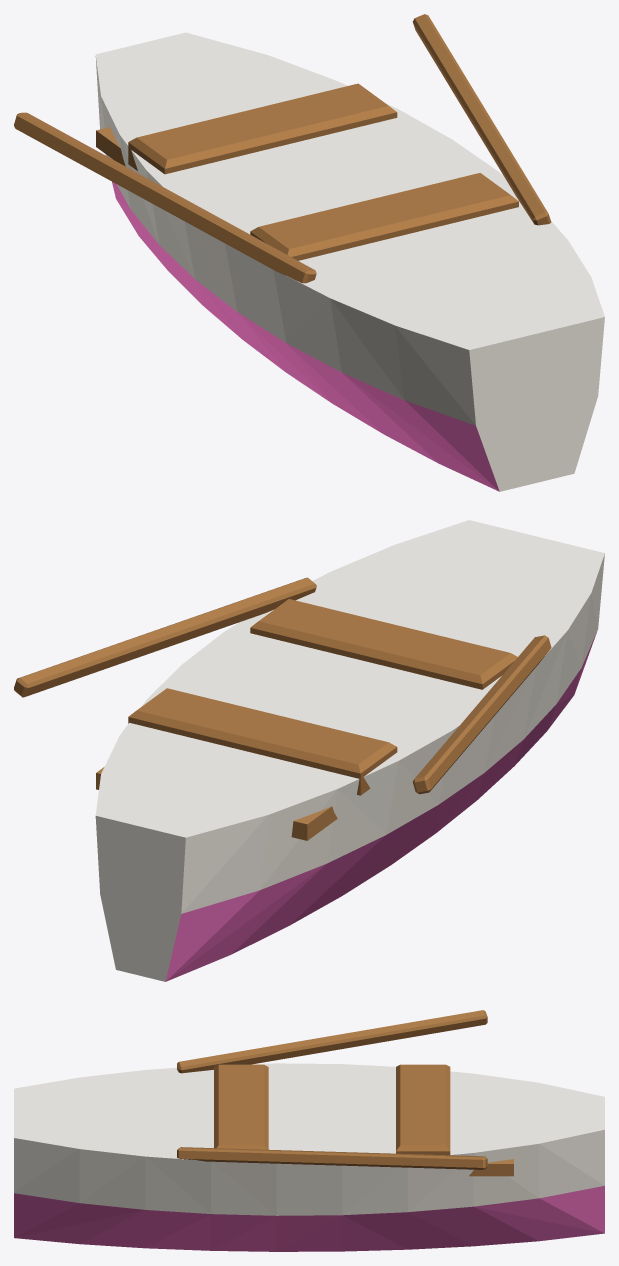
Rendered from Boat_6.glb.
3 renders of one model, top to bottom at view 1: azimuth 30°, elevation 25°; view 2: azimuth 150°, elevation 25°; view 3: azimuth 270°, elevation 25°, orthographic. The views are drawn at different scales.
Visible parts, largest first — view 1: Boat_6; view 2: Boat_6; view 3: Boat_6.
Part boxes in pixels (box(x1,y1,x2,y2)): Boat_6: box(14, 14, 604, 491); Boat_6: box(14, 520, 604, 981); Boat_6: box(14, 1010, 604, 1251).
Size of the model in its own units: 7.9 by 3.42 by 13.
1 material, 1 textured.
